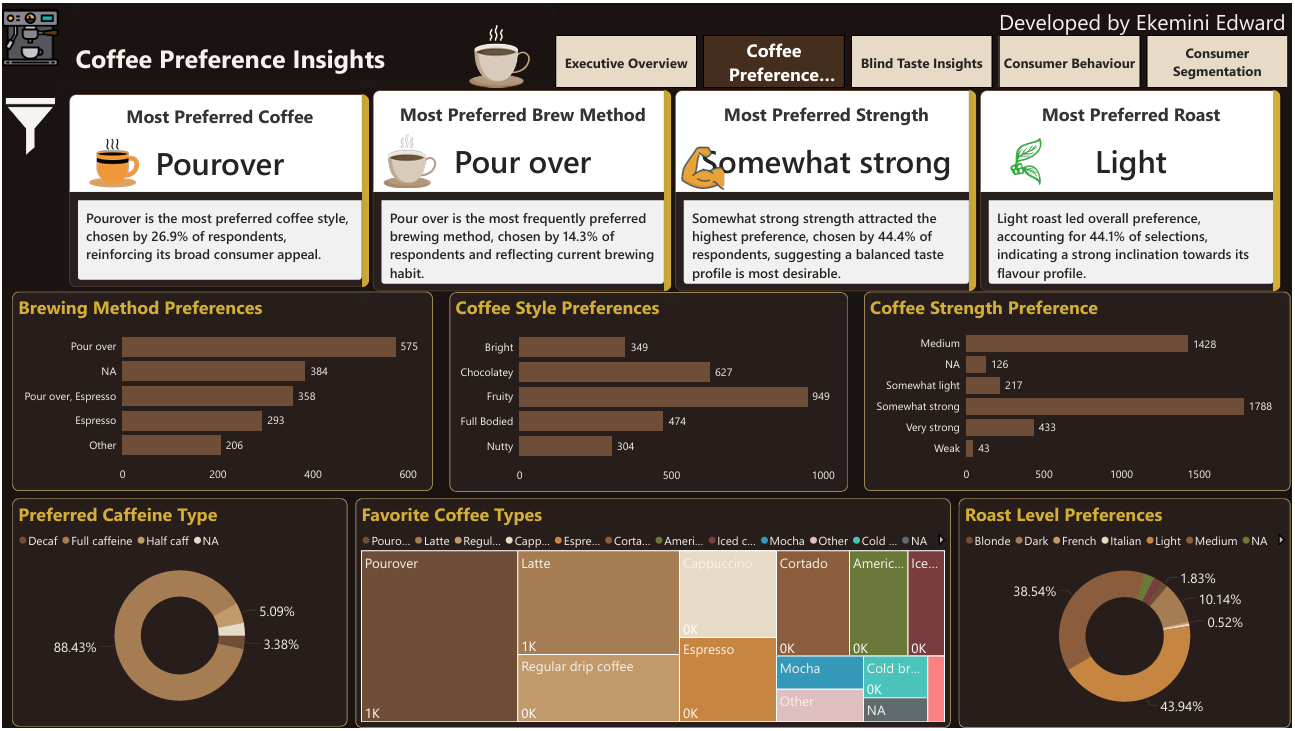

This screenshot's page, from the dashboard's own definition file:
{"tool":"powerbi","page":{"name":"Coffee Preference Insights","canvas":[1920,1080],"ordinal":1},"visuals":[{"type":"textbox","box":[103.6,0,720.7,125.6],"z":0},{"type":"cardVisual","fields":{"Data":["_Measures.Most Preferred Coffee"]},"box":[82.6,118.7,480,321.5],"z":1000},{"type":"image","box":[0,125.6,83.8,114.6],"z":1500,"group":"g1"},{"type":"cardVisual","fields":{"Data":["_Measures.Most Preferred Brew Method"]},"box":[534.8,113.2,477.8,332.7],"z":2000},{"type":"cardVisual","fields":{"Data":["_Measures.Most Preferred Strength"]},"box":[984.8,113.2,482.2,332.7],"z":3000},{"type":"cardVisual","fields":{"Data":["_Measures.Most Preferred Roast"]},"box":[1439.3,113.1,480.5,332.8],"z":4000},{"type":"treemap","title":"Favorite Coffee Types","fields":{"Group":["Coffee_Survey_Facts.favorite"],"Values":["_Measures.Total Respondents"]},"box":[525.7,738.4,886,341.6],"z":5000},{"type":"donutChart","title":"Roast Level Preferences","fields":{"Y":["_Measures.Total Respondents"],"Category":["Coffee_Survey_Facts.roast_level"]},"box":[1423.8,738.4,493.7,341.6],"z":6000},{"type":"clusteredBarChart","title":"Coffee Strength Preference","fields":{"Y":["_Measures.Total Respondents"],"Category":["Coffee_Survey_Facts.strength"]},"box":[1282.8,429.8,634.8,297.6],"z":7000},{"type":"barChart","title":"Coffee Style Preferences","fields":{"Category":["Coffee_Survey_Facts.style"],"Y":["_Measures.Total Respondents"]},"box":[665.6,430.9,593.9,296.9],"z":8000},{"type":"donutChart","title":"Preferred Caffeine Type","fields":{"Y":["_Measures.Total Respondents"],"Category":["Coffee_Survey_Facts.caffeine"]},"box":[15.4,738.4,498.1,339.4],"z":9000},{"type":"barChart","title":"Brewing Method Preferences","fields":{"Category":["Coffee_Survey_Facts.brew"],"Y":["_Measures.Total Respondents"]},"box":[15.4,429.8,626,297.6],"z":10000},{"type":"group","id":"g1","title":"Coffee Preference Insights Filter","box":[0,125.6,397.4,932.8],"z":11000},{"type":"pageNavigator","box":[824.3,48.5,1093.2,77.1],"z":12000},{"type":"textbox","box":[1478.9,0,440.8,63.9],"z":13000},{"type":"image","box":[103.6,196.2,125.6,83.8],"z":14000},{"type":"image","box":[681.1,33.1,119,92.6],"z":15000},{"type":"image","box":[546.6,196.2,119,79.3],"z":16000},{"type":"image","box":[985.2,211.6,114.6,68.3],"z":17000},{"type":"image","box":[1467.9,196.2,112.4,79.3],"z":18000},{"type":"image","box":[0,0,83.8,103],"z":19000}]}

Visuals, with their boxes in screenshot pixels (x1, y1, x2, y2), scaled from the page's 1920x1080 canvas onto the 1295x731 screenshot:
textbox: locate(70, 0, 556, 85)
cardVisual - _Measures.Most Preferred Coffee: locate(56, 80, 379, 298)
image: locate(0, 85, 57, 163)
cardVisual - _Measures.Most Preferred Brew Method: locate(361, 77, 683, 302)
cardVisual - _Measures.Most Preferred Strength: locate(664, 77, 989, 302)
cardVisual - _Measures.Most Preferred Roast: locate(971, 77, 1294, 302)
"Favorite Coffee Types" treemap: locate(355, 500, 952, 730)
"Roast Level Preferences" donutChart: locate(960, 500, 1293, 730)
"Coffee Strength Preference" clusteredBarChart: locate(865, 291, 1293, 492)
"Coffee Style Preferences" barChart: locate(449, 292, 850, 493)
"Preferred Caffeine Type" donutChart: locate(10, 500, 346, 730)
"Brewing Method Preferences" barChart: locate(10, 291, 433, 492)
"Coffee Preference Insights Filter" group: locate(0, 85, 268, 716)
pageNavigator: locate(556, 33, 1293, 85)
textbox: locate(997, 0, 1294, 43)
image: locate(70, 133, 155, 190)
image: locate(459, 22, 540, 85)
image: locate(369, 133, 449, 186)
image: locate(664, 143, 742, 189)
image: locate(990, 133, 1066, 186)
image: locate(0, 0, 57, 70)
